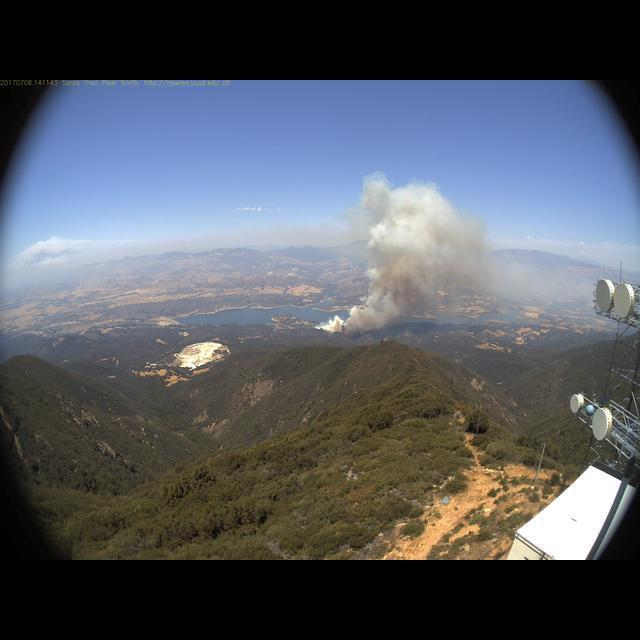Smoke: (312, 167, 499, 341)
